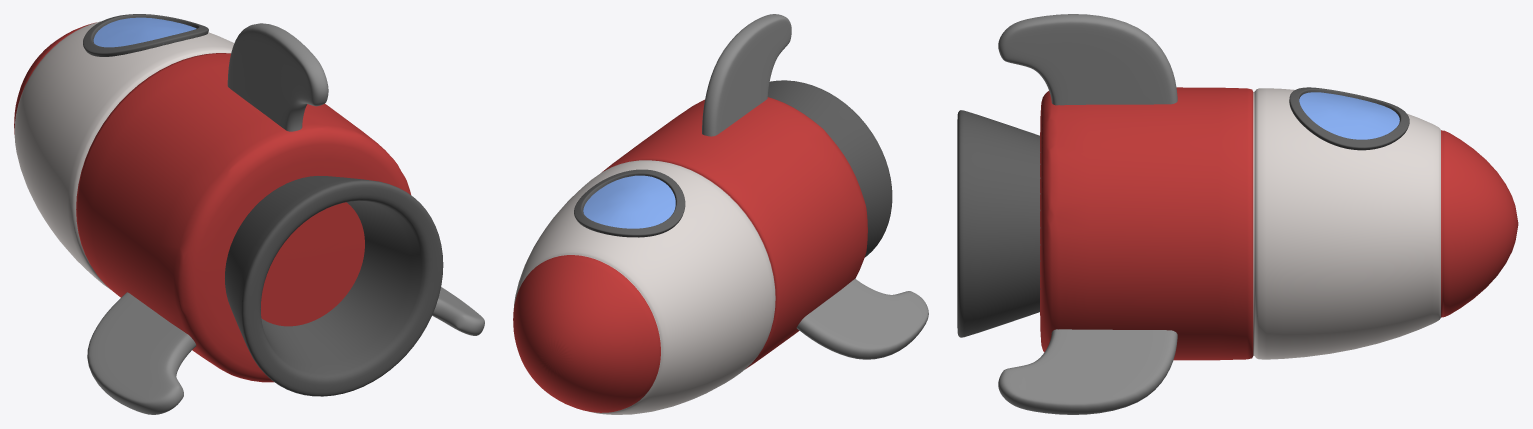
Rendered from Rocket v2.fbx.
3 views of the same model, side by side, from view 1: azimuth 30°, elevation 25°; view 2: azimuth 150°, elevation 25°; view 3: azimuth 270°, elevation 25° (orthographic). The views are drawn at different scales.
Parts seen in each view (by area): view 1: wing; view 2: wing; view 3: wing.
Part boxes in pixels (x1,y1,x2,y2): wing: (14, 14, 484, 414); wing: (513, 14, 928, 414); wing: (957, 14, 1518, 414).
Size of the model in its own units: 292 by 266 by 408.
